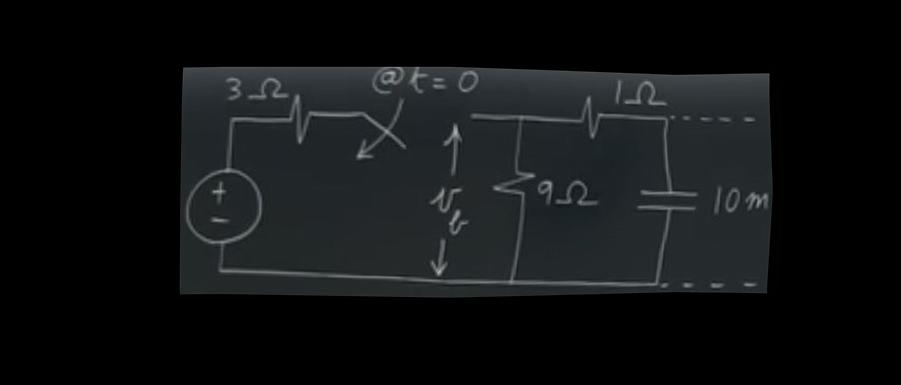Battery: (173, 158, 273, 262)
